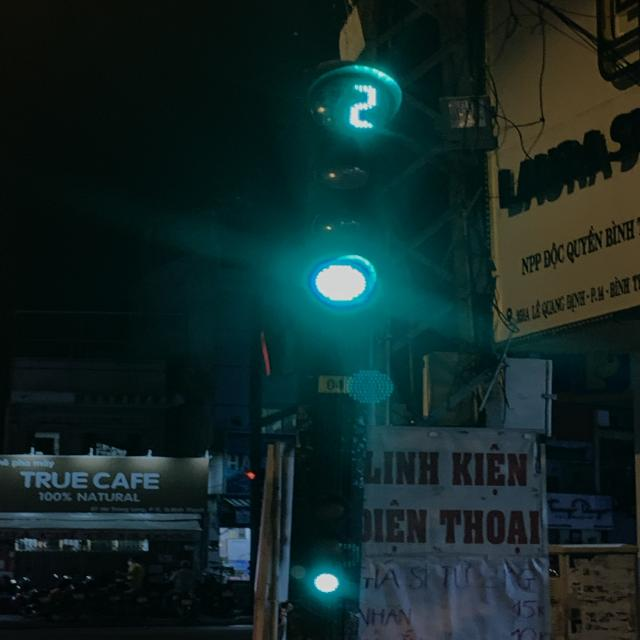Green: (310, 141, 382, 315), (290, 485, 357, 605)
